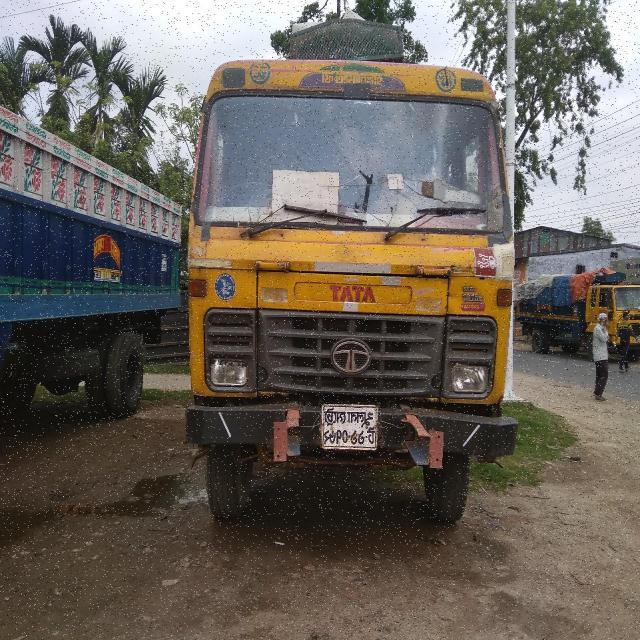numberplate: (320, 402, 380, 451)
